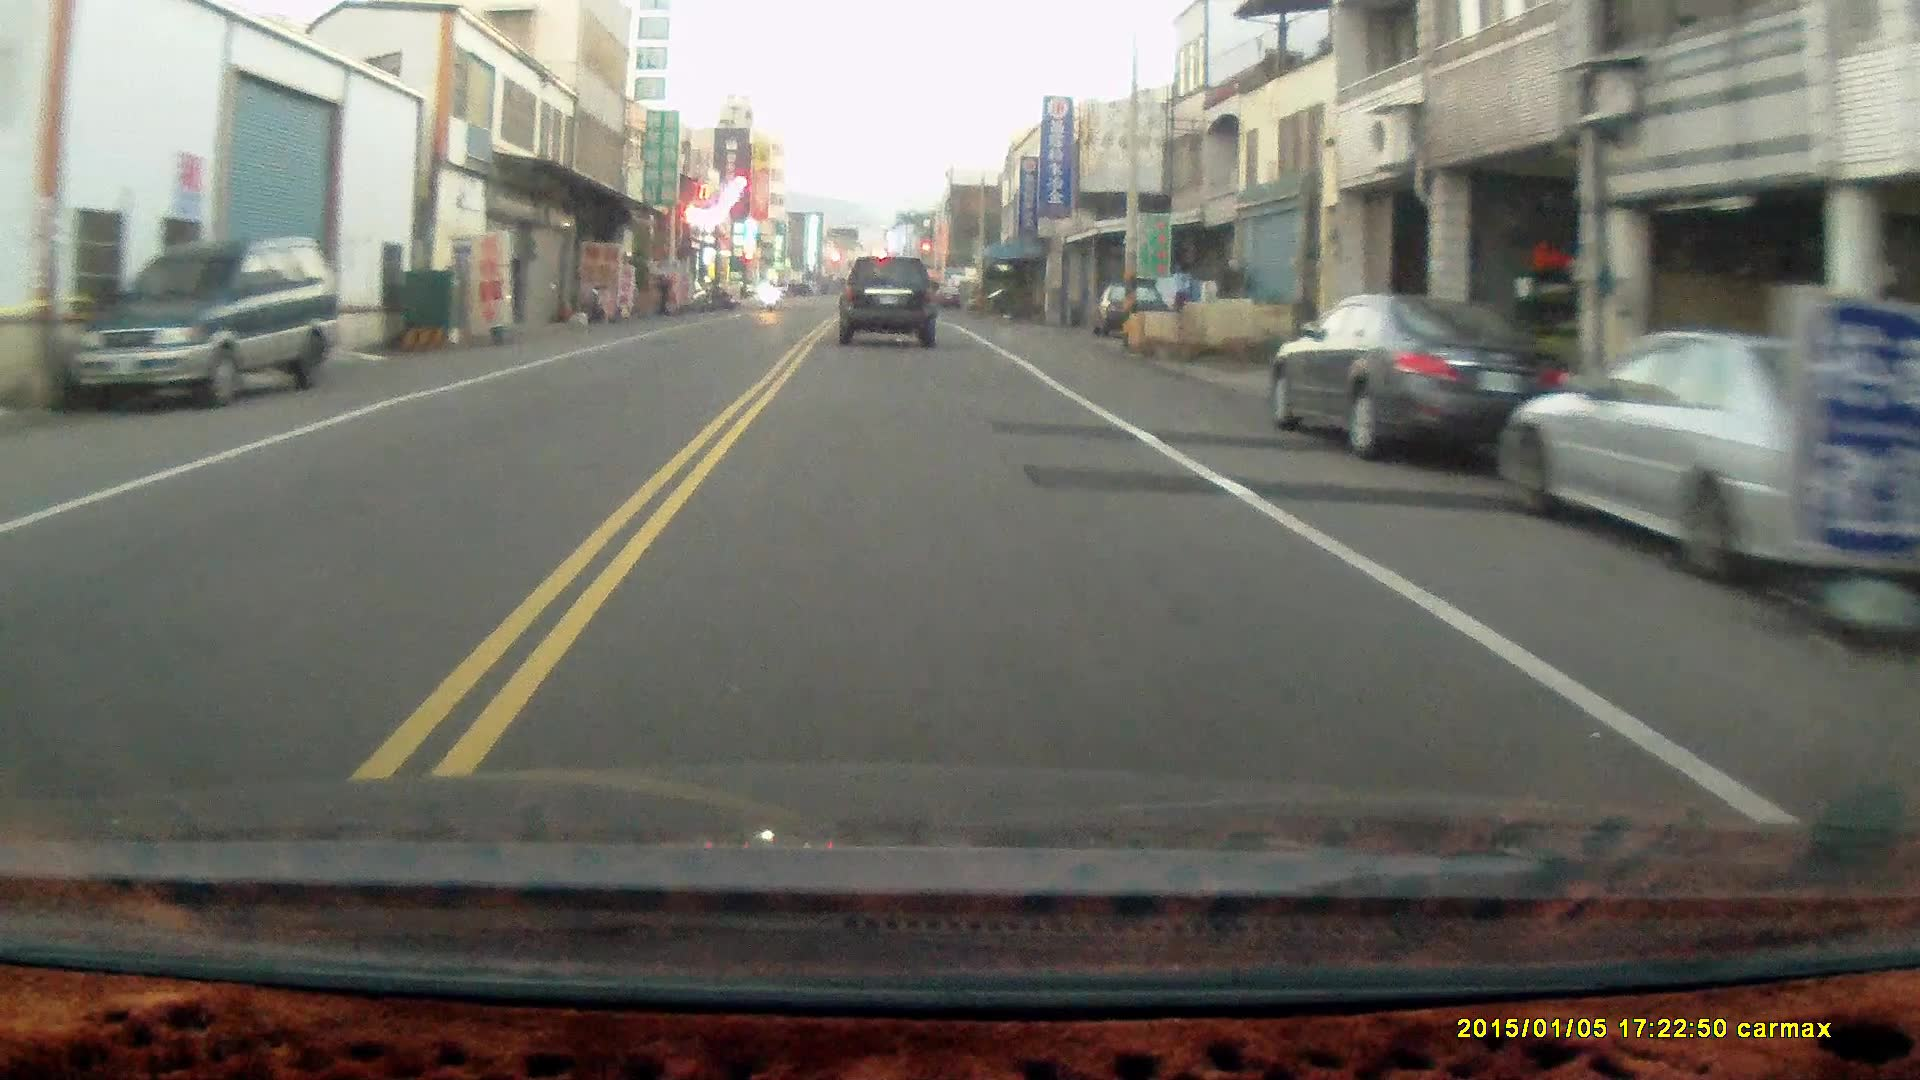pedestrian: (651, 271, 671, 321)
vehicle: (1500, 331, 1920, 588), (1269, 294, 1579, 464), (62, 236, 336, 410), (837, 257, 939, 350)
